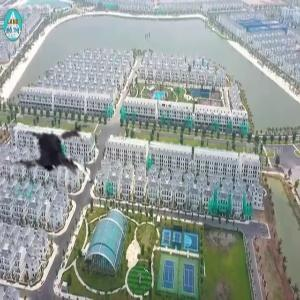drone: (6, 111, 111, 216)
